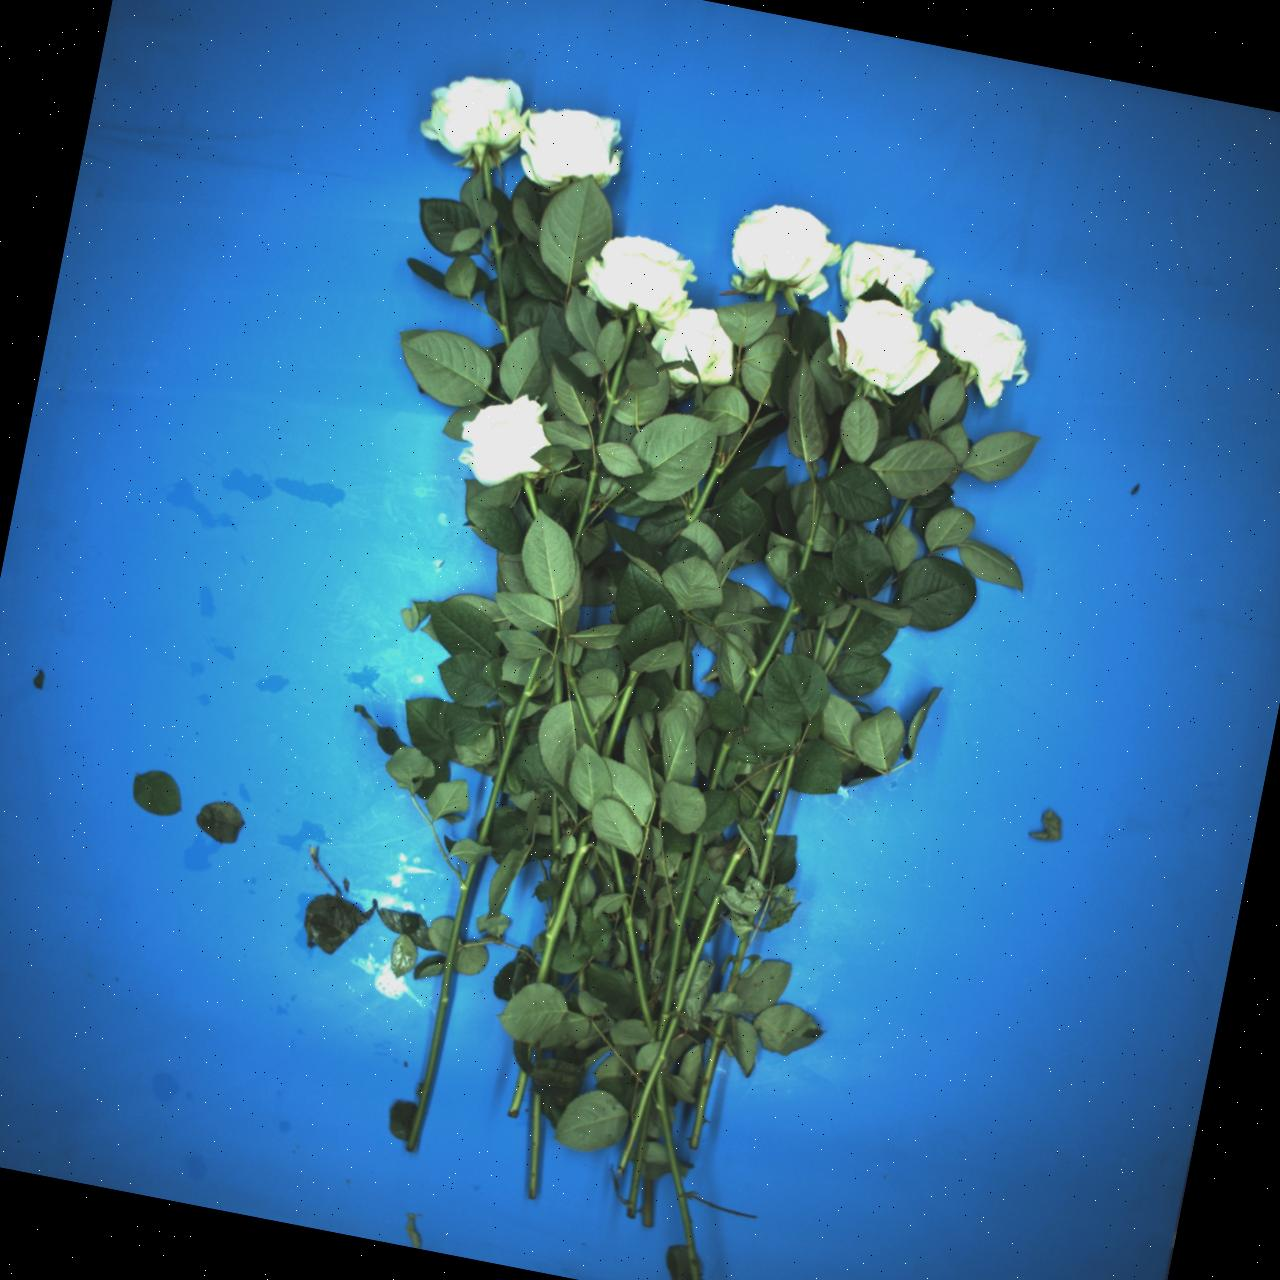Stem: (614, 894, 722, 1176), (406, 860, 478, 1152), (475, 652, 543, 846), (649, 1070, 703, 1280), (653, 832, 706, 1041), (533, 830, 591, 985), (736, 597, 801, 709), (592, 312, 640, 445), (686, 1010, 730, 1150), (619, 898, 659, 1043), (754, 753, 797, 885), (680, 433, 735, 526), (560, 662, 605, 758), (600, 669, 640, 758), (568, 452, 602, 551), (488, 224, 513, 349), (626, 1095, 652, 1219), (822, 606, 863, 675), (749, 751, 790, 821), (797, 491, 826, 574), (704, 727, 737, 791), (880, 496, 913, 546), (724, 930, 750, 993), (527, 1091, 540, 1199), (719, 839, 748, 886), (508, 1068, 529, 1118), (477, 155, 496, 204), (678, 621, 690, 690), (652, 906, 668, 959), (825, 436, 845, 479), (610, 844, 626, 894), (811, 617, 829, 663), (522, 478, 540, 520), (550, 790, 561, 856), (641, 1179, 654, 1227), (685, 482, 703, 510), (552, 658, 563, 706), (546, 891, 563, 913), (763, 281, 778, 305), (836, 517, 846, 543), (539, 627, 552, 646), (853, 382, 863, 400), (744, 913, 755, 925), (537, 1046, 543, 1062)
flower: (812, 279, 946, 415), (920, 275, 1047, 409), (574, 217, 709, 341), (723, 198, 845, 308), (448, 392, 559, 491), (646, 299, 747, 406), (420, 73, 529, 163), (518, 105, 624, 193), (833, 239, 937, 316)
